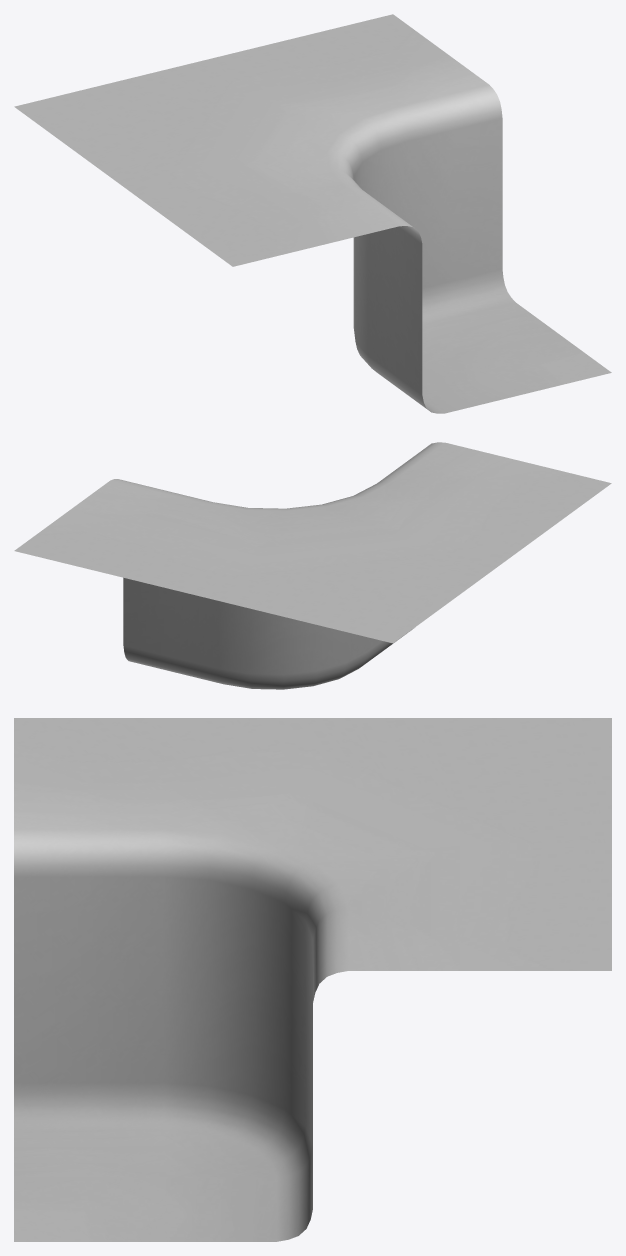
Rendered from edge_inner.fbx.
3 views of the same model, one above another, from view 1: azimuth 30°, elevation 25°; view 2: azimuth 150°, elevation 25°; view 3: azimuth 270°, elevation 25° (orthographic). The views are drawn at different scales.
Visible parts, largest first — view 1: Edge_Inner; view 2: Edge_Inner; view 3: Edge_Inner.
Part boxes in pixels (x1,y1,x2,y2): Edge_Inner: (14,14,611,413); Edge_Inner: (14,442,611,689); Edge_Inner: (14,718,611,1241).
Size of the model in its own units: 200 by 100 by 200.
